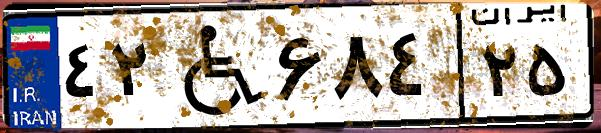2: (475, 38, 525, 113), (110, 28, 158, 98)
4: (385, 28, 445, 110), (57, 26, 110, 100)
5: (525, 38, 570, 115)
6: (270, 28, 330, 110)
8: (330, 28, 385, 110)
ژ (معلولین و جانبازان): (158, 12, 270, 120)
